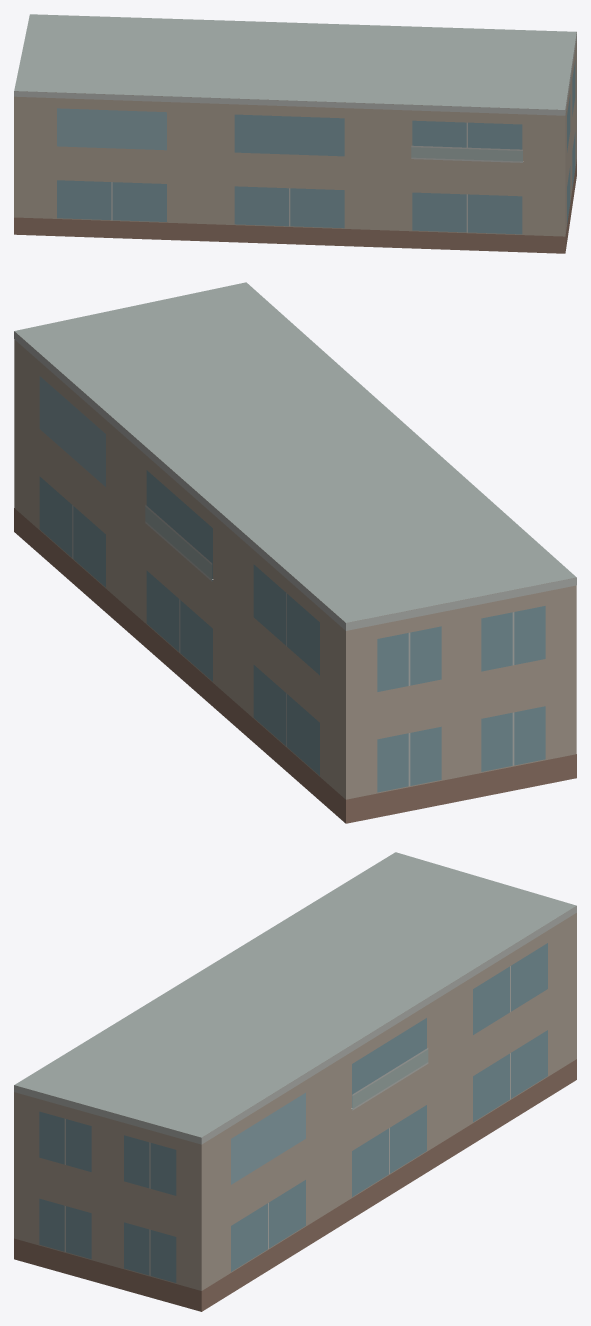
Rendered from survey-upis-32660538.glb.
The picture shows the model from 3 angles, top to bottom: view 1: azimuth 30°, elevation 25°; view 2: azimuth 150°, elevation 25°; view 3: azimuth 270°, elevation 25°; orthographic projection. The views are drawn at different scales.
Parts seen in each view (by area): view 1: survey-upis-32660538.tmp; view 2: survey-upis-32660538.tmp; view 3: survey-upis-32660538.tmp.
Part boxes in pixels (left/top/right/bottom): survey-upis-32660538.tmp: left=14, top=14, right=576, bottom=253; survey-upis-32660538.tmp: left=14, top=282, right=576, bottom=823; survey-upis-32660538.tmp: left=14, top=852, right=576, bottom=1311.
Size of the model in its own units: 21.46 by 6.1 by 17.87.
